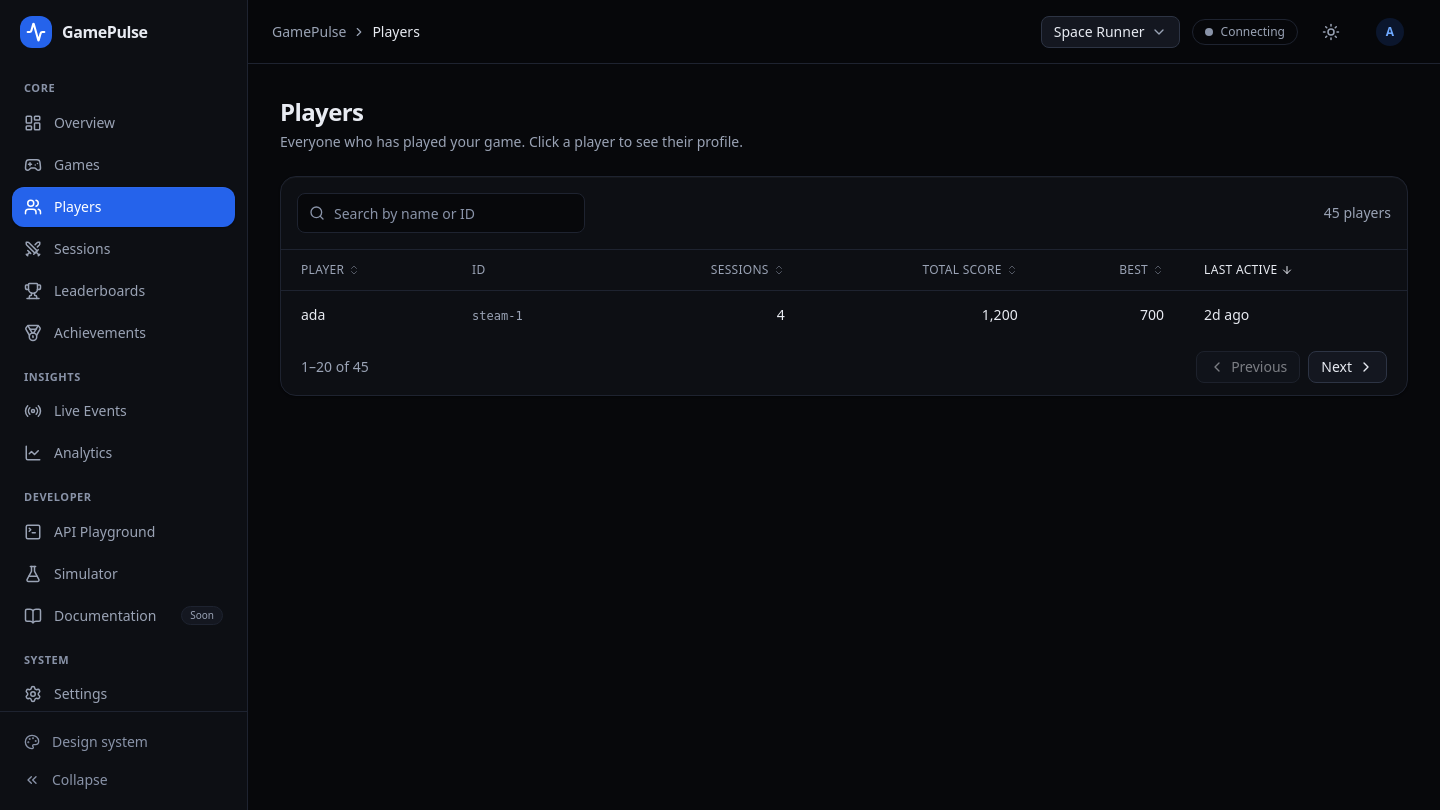
Test: Players page › sorts by a column and reports it with aria-sort
Expected: the link "ada" is shown, [301,305,325,325]
What coordinates should you click on to do the following:
click the button "Total score"
I would click on:
 (970, 270)
Its box is [923,262,1018,278].
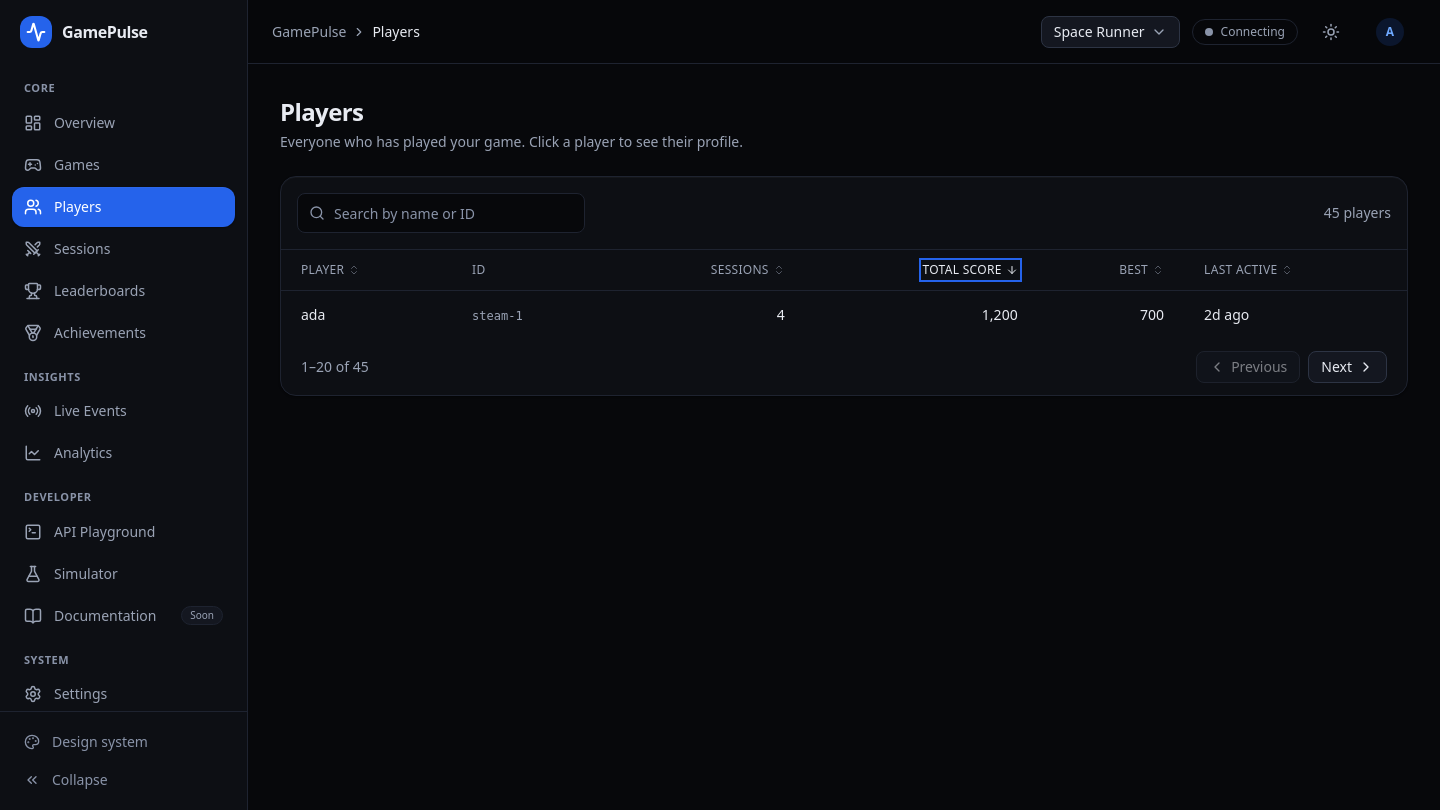
Now the column heading "Total score" has attribute aria-sort="descending", box [805,250,1038,290]
